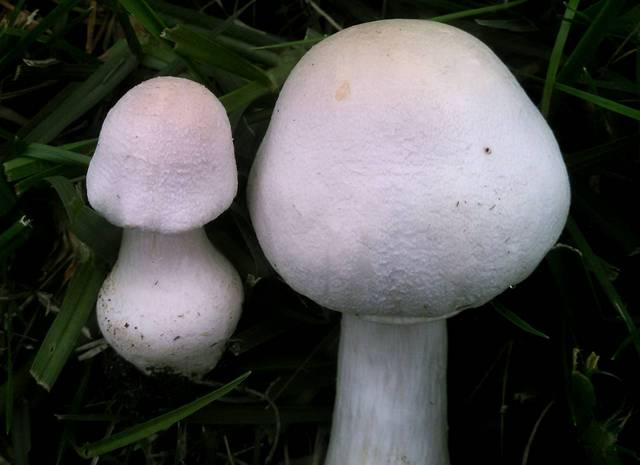Non-edible Mushroom: (245, 16, 572, 464), (84, 73, 245, 381)
